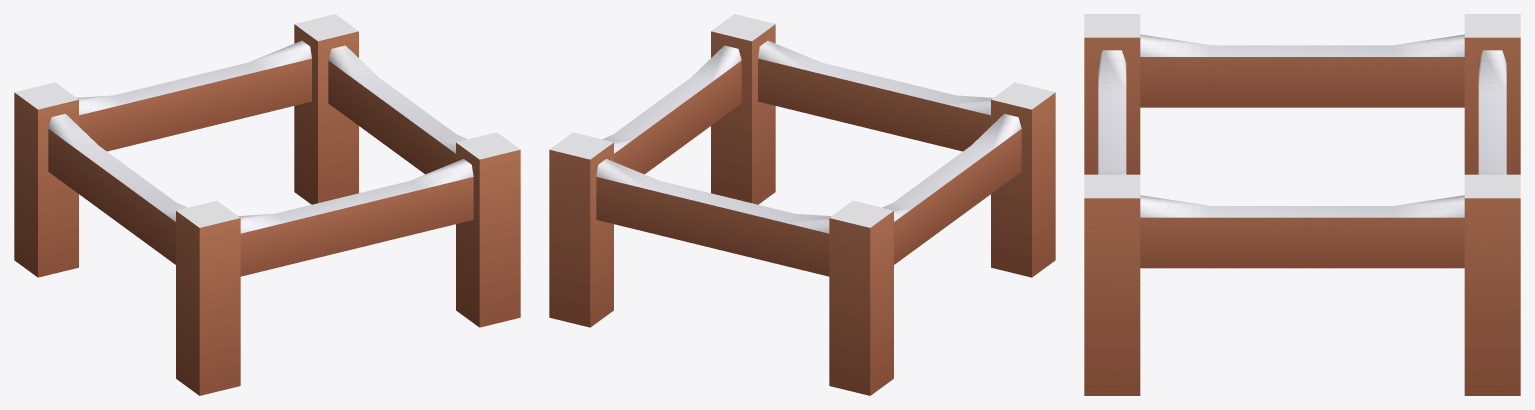
File: tower-defense-kit--snow-wood-structure.glb
3 views of the same model, side by side, from view 1: azimuth 30°, elevation 25°; view 2: azimuth 150°, elevation 25°; view 3: azimuth 270°, elevation 25° (orthographic). The views are drawn at different scales.
Visible parts, largest first — view 1: snow-wood-structure; view 2: snow-wood-structure; view 3: snow-wood-structure.
Boxes of the visible parts, x1,y1,x2,y2 form: snow-wood-structure: [14, 14, 520, 395]; snow-wood-structure: [549, 14, 1055, 395]; snow-wood-structure: [1084, 14, 1520, 395].
Bounding box in the file's own units: 1 × 0.5 × 1.
1 material, 1 textured.
